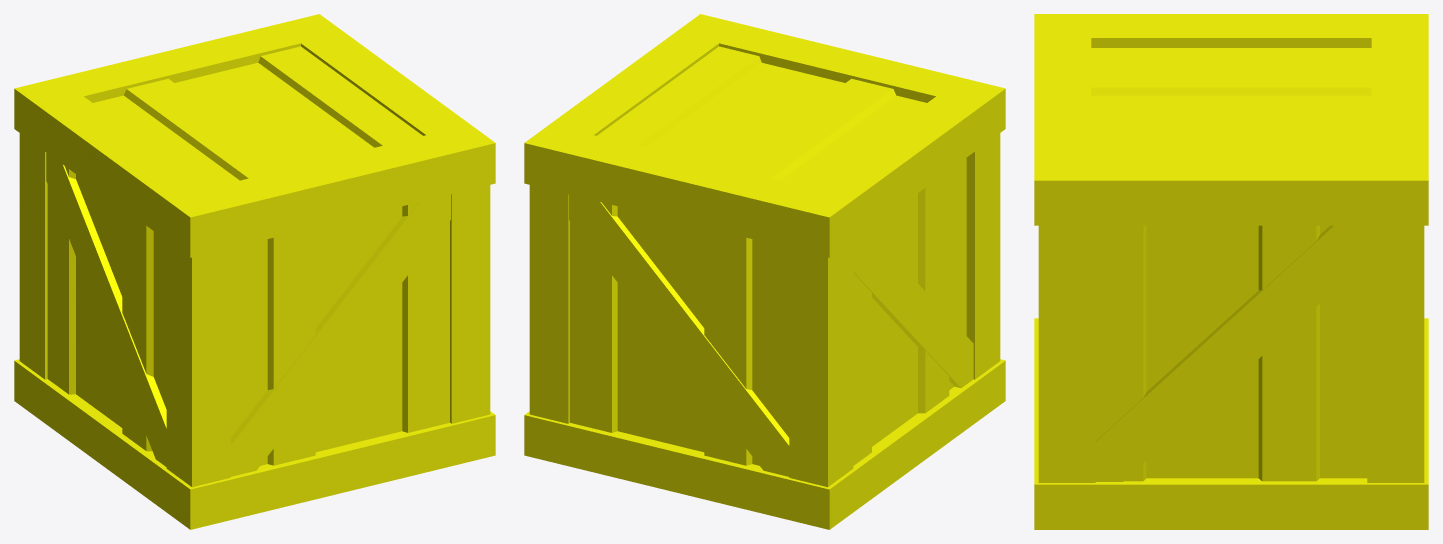
File: Prop_Crate.glb
3 views of the same model, side by side, from view 1: azimuth 30°, elevation 25°; view 2: azimuth 150°, elevation 25°; view 3: azimuth 270°, elevation 25° (orthographic). The views are drawn at different scales.
Visible parts, largest first — view 1: Prop_Crate; view 2: Prop_Crate; view 3: Prop_Crate.
Boxes of the visible parts, x1,y1,x2,y2 form: Prop_Crate: [14, 14, 495, 529]; Prop_Crate: [524, 14, 1005, 529]; Prop_Crate: [1034, 14, 1428, 529].
Size of the model in its own units: 1.08 by 1.06 by 1.08.
Materials: 1 (1 with a texture image).
